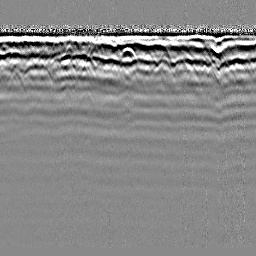cavity: (119, 45, 137, 61)
